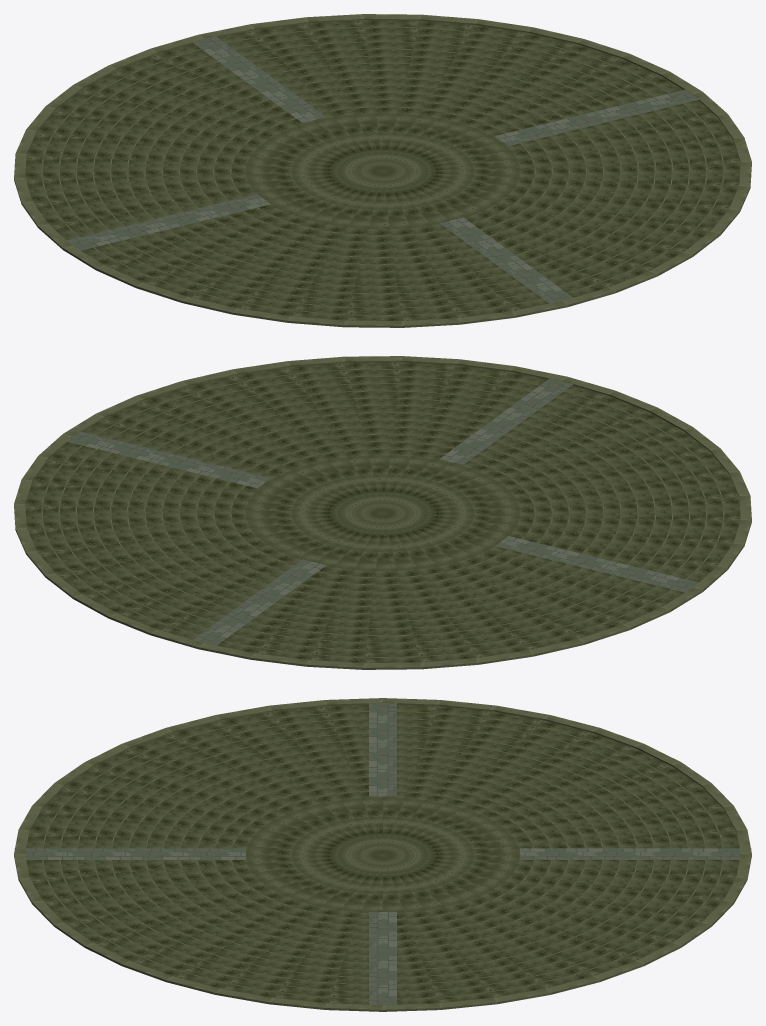
File: city_large_base.glb
The picture shows the model from 3 angles, top to bottom: view 1: azimuth 30°, elevation 25°; view 2: azimuth 150°, elevation 25°; view 3: azimuth 270°, elevation 25°; orthographic projection.
Visible parts, largest first — view 1: ae_jungle_city_large_base; view 2: ae_jungle_city_large_base; view 3: ae_jungle_city_large_base.
Boxes of the visible parts, x1,y1,x2,y2 form: ae_jungle_city_large_base: (14, 14, 751, 327); ae_jungle_city_large_base: (14, 356, 751, 669); ae_jungle_city_large_base: (14, 698, 751, 1011).
Bounding box in the file's own units: 1.97 × 0.00602 × 1.97.
Materials: 1 (1 with a texture image).
